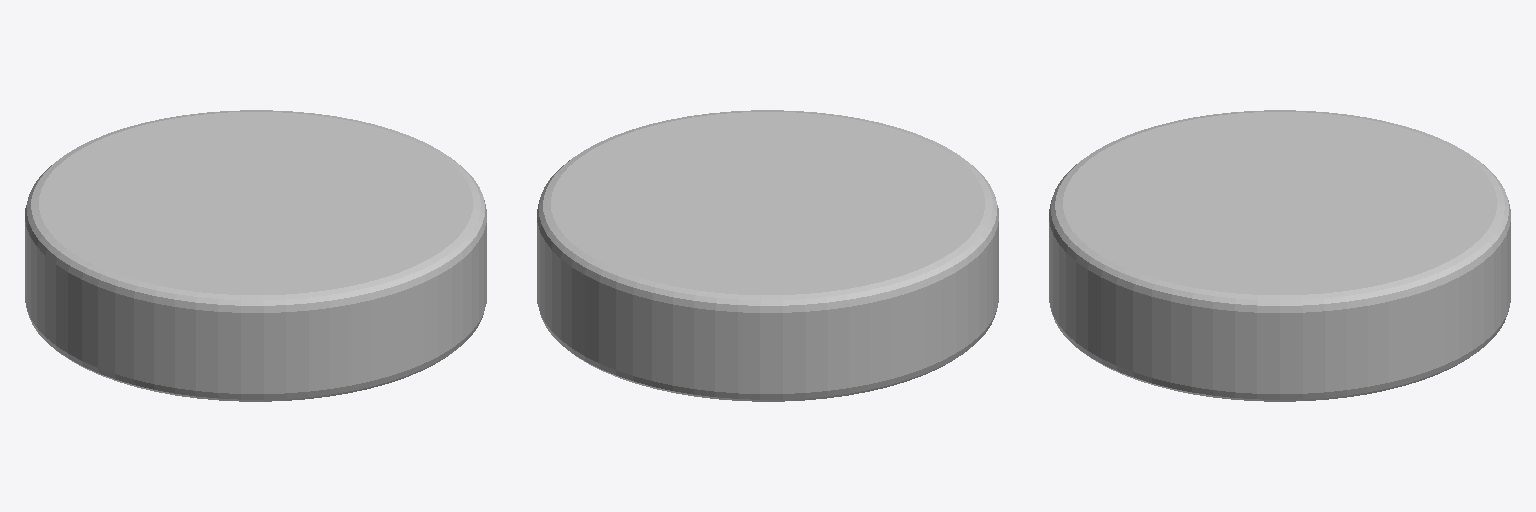
Rendered from Puck.obj.
3 views of the same model, side by side, from view 1: azimuth 30°, elevation 25°; view 2: azimuth 150°, elevation 25°; view 3: azimuth 270°, elevation 25° (orthographic).
Visible parts, largest first — view 1: Mesh0; view 2: Mesh0; view 3: Mesh0.
Boxes of the visible parts, box(x1,y1,x2,y2) form: Mesh0: box(25, 110, 486, 401); Mesh0: box(537, 110, 998, 401); Mesh0: box(1049, 110, 1510, 401).
Bounding box in the file's own units: 223 × 55.84 × 223.